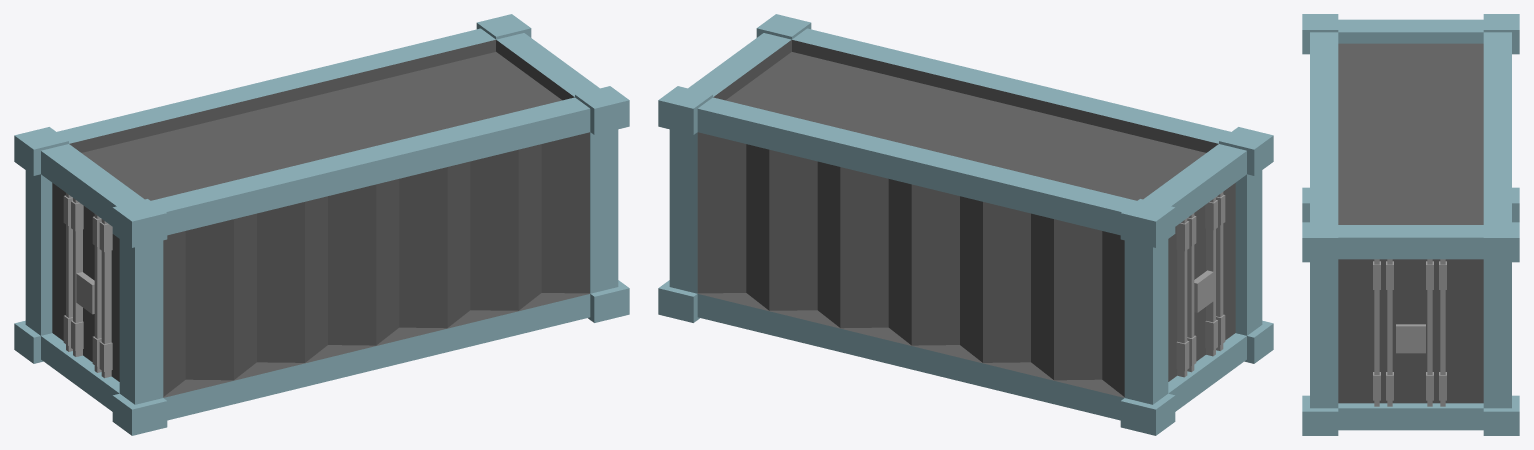
Rendered from container 2.fbx.
3 renders of one model, left to right at view 1: azimuth 30°, elevation 25°; view 2: azimuth 150°, elevation 25°; view 3: azimuth 270°, elevation 25°, orthographic. The views are drawn at different scales.
Visible parts, largest first — view 1: container_2; view 2: container_2; view 3: container_2.
Boxes of the visible parts, x1,y1,x2,y2 form: container_2: [14, 14, 629, 435]; container_2: [658, 14, 1273, 435]; container_2: [1302, 14, 1519, 435].
Size of the model in its own units: 4.82 by 1.98 by 1.98.
